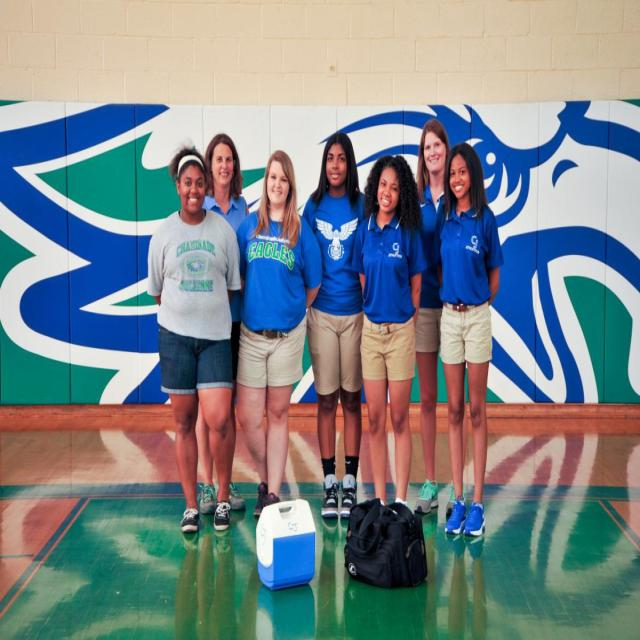body: (146, 141, 244, 537), (167, 520, 488, 640), (234, 149, 325, 519), (347, 151, 424, 530), (434, 138, 503, 543), (300, 130, 368, 521), (412, 118, 470, 522), (194, 133, 250, 516)
